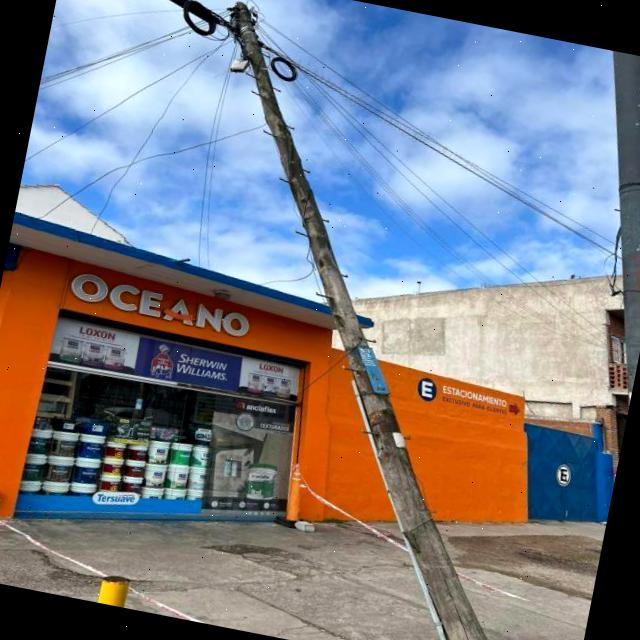Broken Pole: (230, 5, 489, 640)
